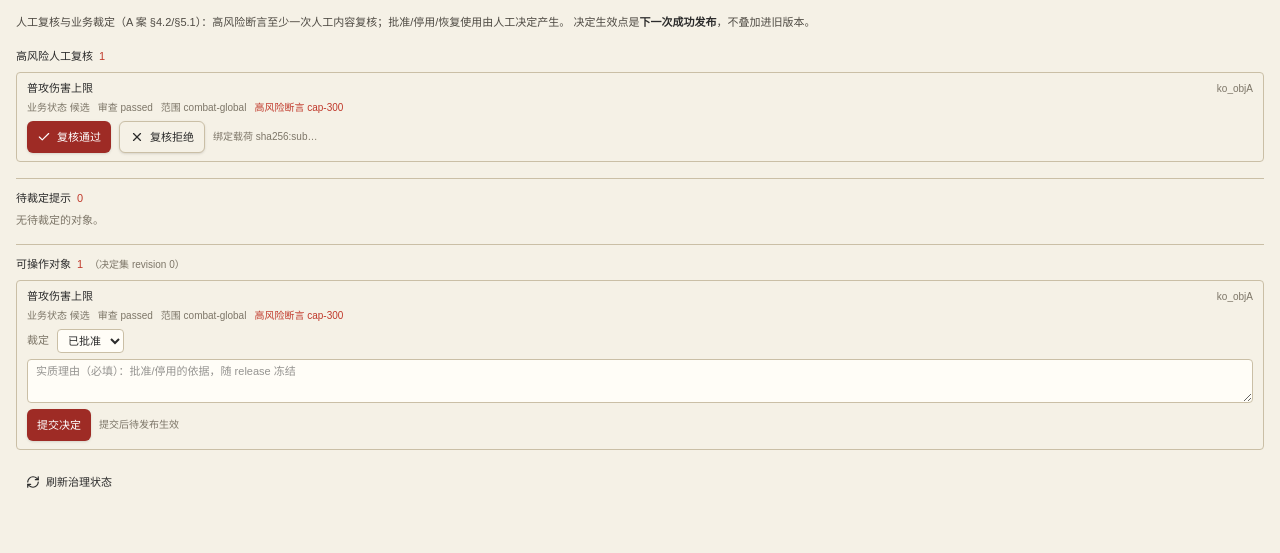
it: 人工复核提交：通过按钮绑定 objectId + reviewSubjectHash，成功后刷新
Click the button "复核通过" at coordinates (69, 137), box [27,121,111,153]
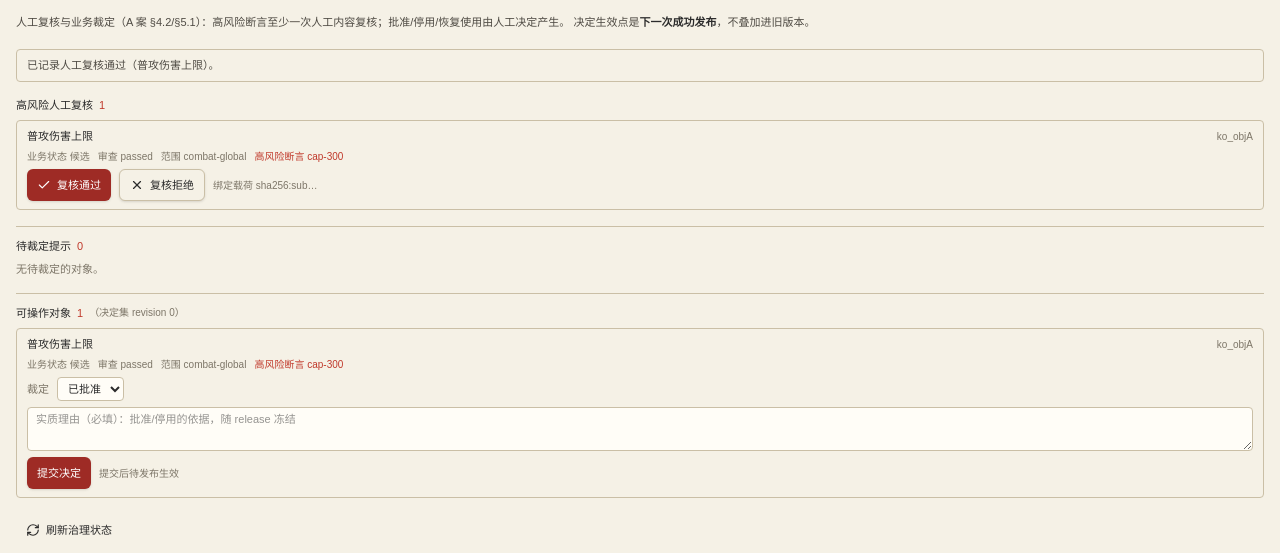
Check: the message with test id "kb-gov-notice" shows "复核通过", box [27,59,220,71]
